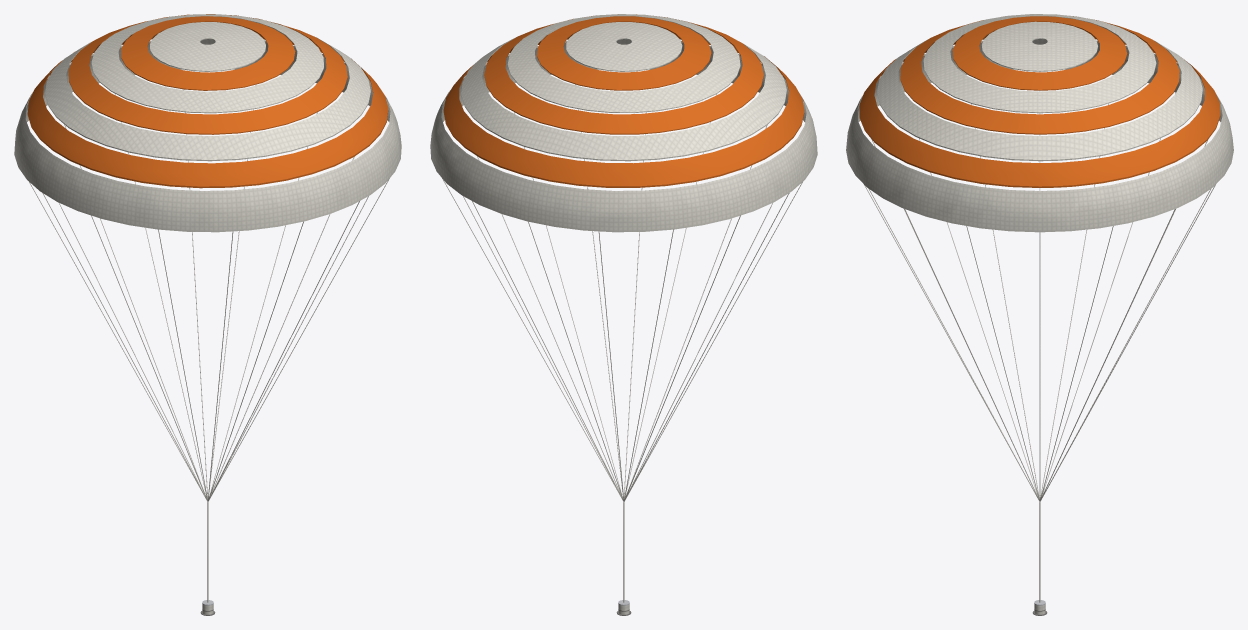
File: stage08_main_chute_s_deployed.glb
3 renders of one model, left to right at view 1: azimuth 30°, elevation 25°; view 2: azimuth 150°, elevation 25°; view 3: azimuth 270°, elevation 25°, orthographic.
Visible parts, largest first — view 1: canopy_ring_6, canopy_ring_5, canopy_ring_4, canopy_ring_3, canopy_ring_2, lines_riser, canopy_ring_1, canopy_ring_0; view 2: canopy_ring_6, canopy_ring_5, canopy_ring_4, canopy_ring_3, canopy_ring_2, lines_riser, canopy_ring_1, canopy_ring_0; view 3: canopy_ring_6, canopy_ring_5, canopy_ring_4, canopy_ring_3, canopy_ring_2, canopy_ring_1, lines_riser, canopy_ring_0.
Boxes of the visible parts, <box> form: canopy_ring_6: <box>14,39,401,232</box>; canopy_ring_5: <box>27,29,388,188</box>; canopy_ring_4: <box>45,36,370,161</box>; canopy_ring_3: <box>68,14,347,134</box>; canopy_ring_2: <box>91,14,323,113</box>; lines_riser: <box>29,84,389,602</box>; canopy_ring_1: <box>121,16,295,90</box>; canopy_ring_0: <box>150,22,265,71</box>; canopy_ring_6: <box>430,39,817,232</box>; canopy_ring_5: <box>443,29,804,187</box>; canopy_ring_4: <box>461,37,786,161</box>; canopy_ring_3: <box>484,14,763,134</box>; canopy_ring_2: <box>507,14,740,113</box>; lines_riser: <box>442,84,802,602</box>; canopy_ring_1: <box>537,16,711,90</box>; canopy_ring_0: <box>566,22,682,71</box>; canopy_ring_6: <box>846,39,1233,232</box>; canopy_ring_5: <box>859,29,1220,187</box>; canopy_ring_4: <box>877,28,1202,161</box>; canopy_ring_3: <box>900,16,1179,134</box>; canopy_ring_2: <box>923,14,1156,113</box>; canopy_ring_1: <box>952,16,1127,90</box>; lines_riser: <box>864,91,1215,602</box>; canopy_ring_0: <box>981,21,1098,71</box>.
Bounding box in the file's own units: 21 × 34.13 × 21.
4 materials, 3 textured.
